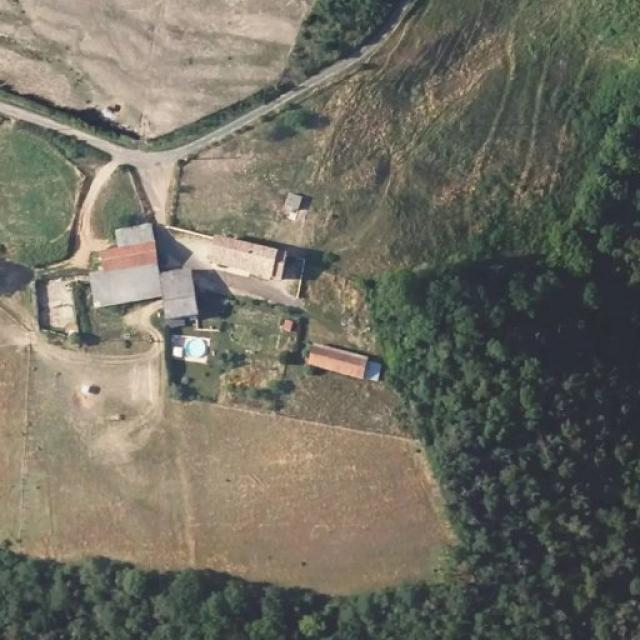ferme: (163, 224, 312, 302), (100, 218, 159, 266), (88, 266, 162, 303), (158, 271, 200, 323), (306, 342, 366, 377)
piscine: (180, 330, 212, 360)
